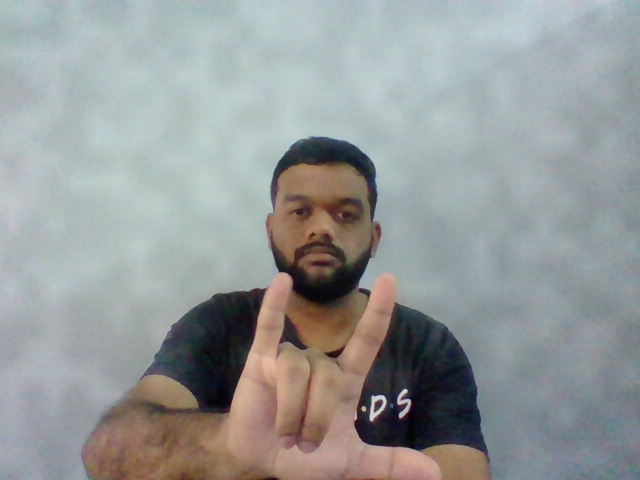I love you: (257, 271, 441, 480)
